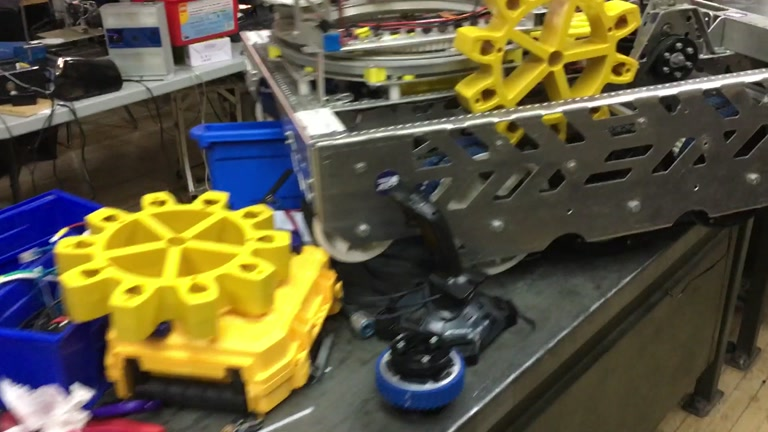gear: (54, 189, 293, 340), (454, 1, 640, 153)
